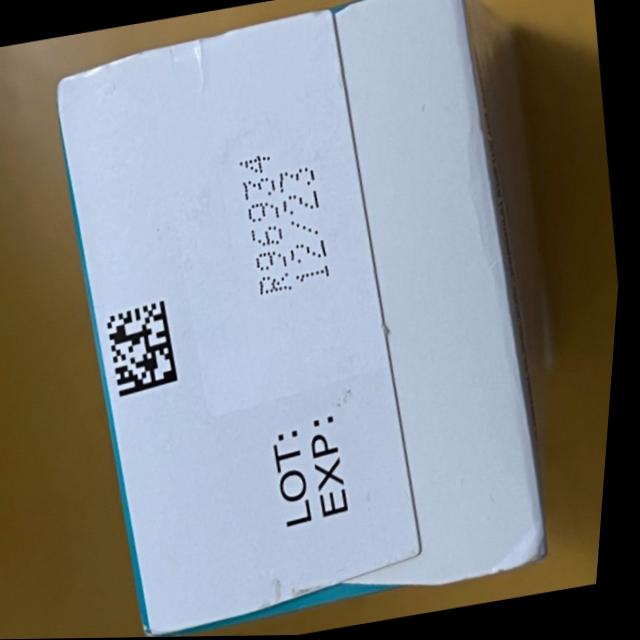datamatrix: (106, 299, 191, 399)
